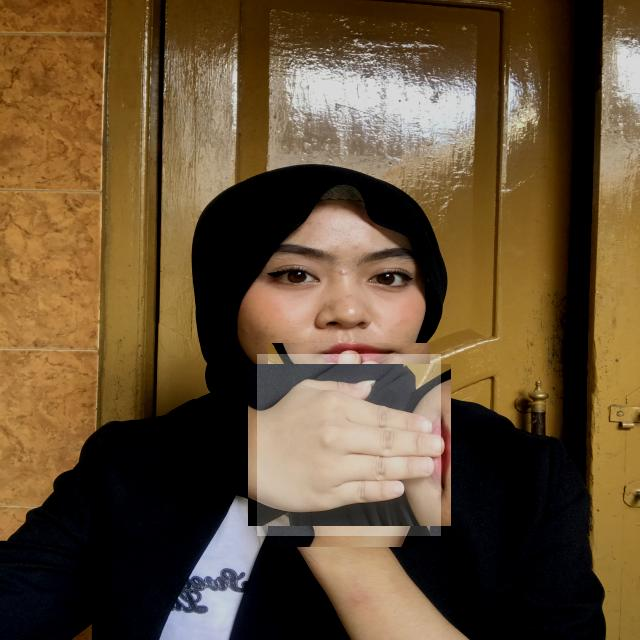ganteng: (257, 354, 441, 536)
